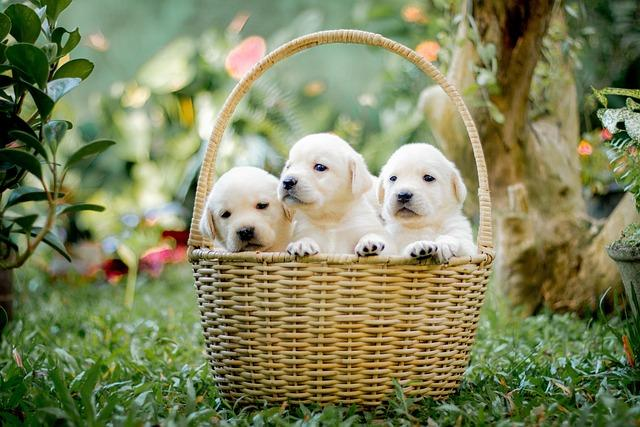Non_Gorille: (3, 0, 640, 427)
